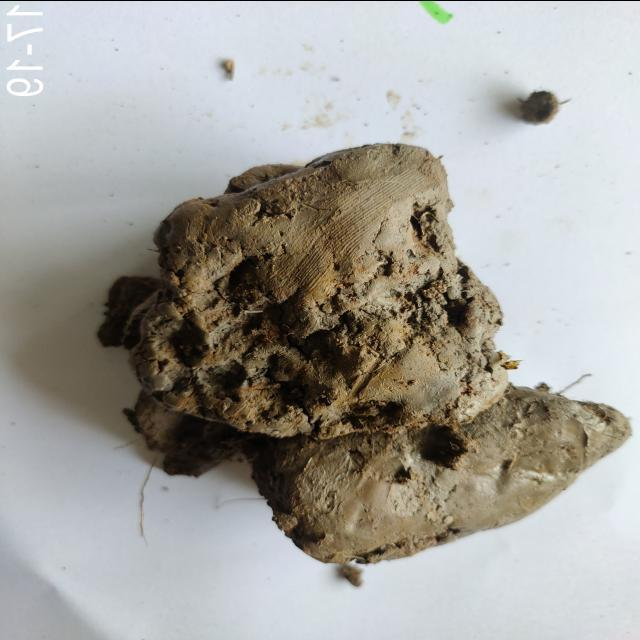soil: (192, 207, 436, 465)
